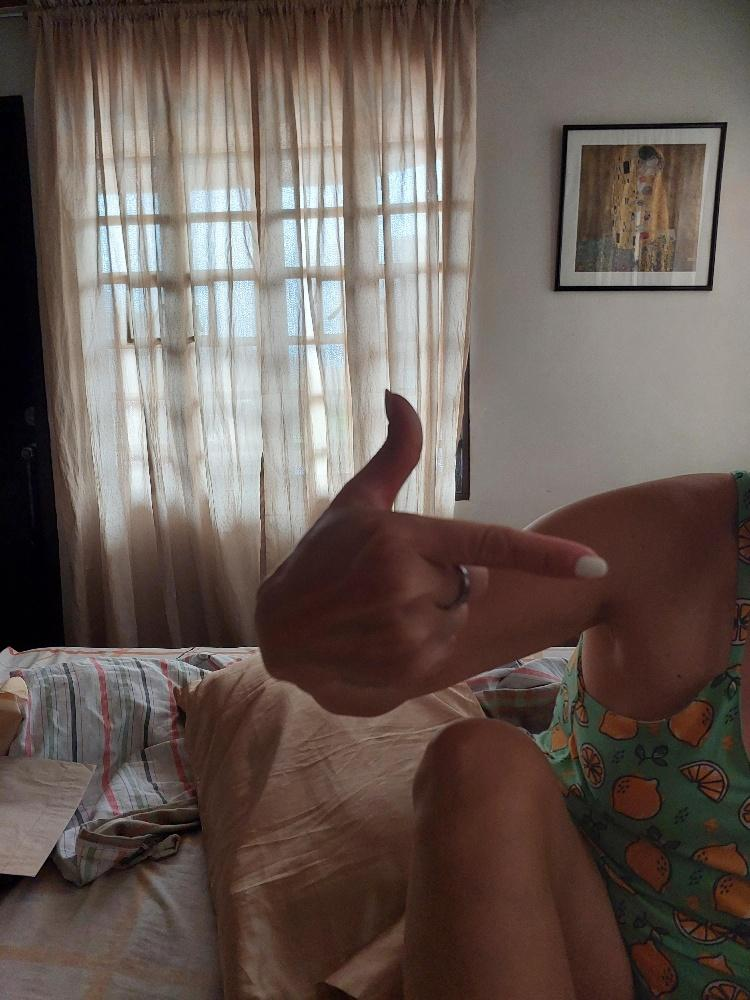g: (251, 383, 611, 710)
